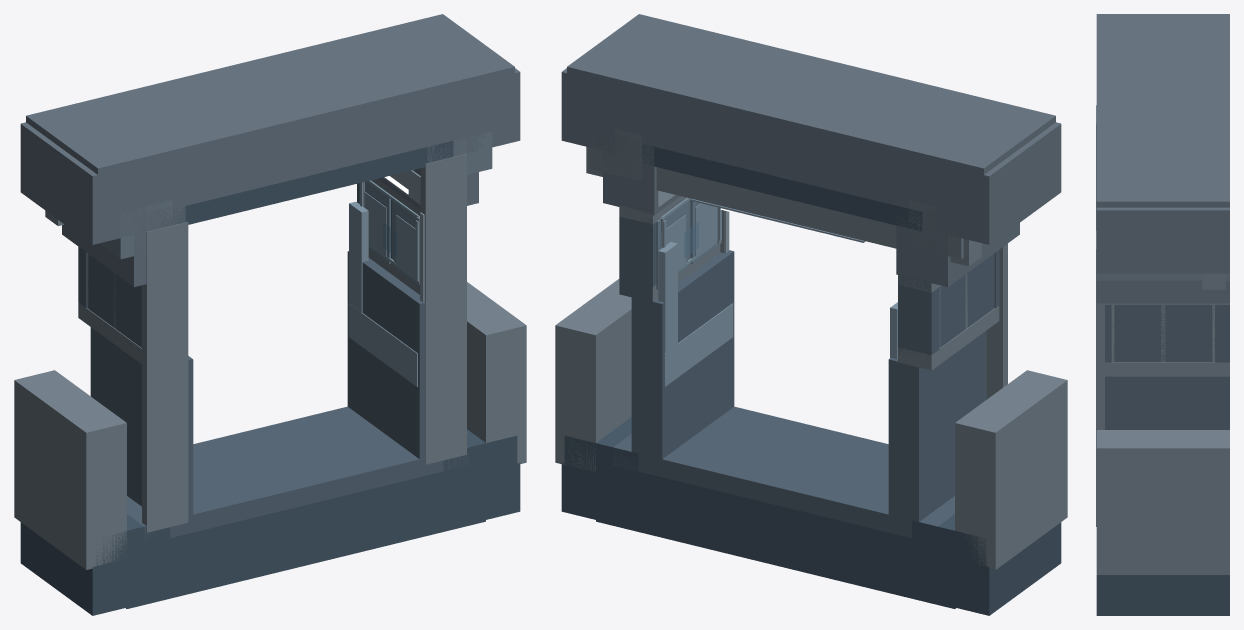
The model's file is continuum-observation-bays-v3.gltf.
3 views of the same model, side by side, from view 1: azimuth 30°, elevation 25°; view 2: azimuth 150°, elevation 25°; view 3: azimuth 270°, elevation 25° (orthographic). The views are drawn at different scales.
Visible parts, largest first — view 1: PANORAMA_SHELL, PANORAMA_INLAY, SERVICE_SHELL, SERVICE_INLAY, GATE_INLAY; view 2: PANORAMA_SHELL, SERVICE_SHELL, GATE_SHELL, PANORAMA_INLAY, GATE_INLAY, SERVICE_INLAY; view 3: PANORAMA_SHELL, SERVICE_SHELL, GATE_SHELL.
Part boxes in pixels (x1,y1,x2,y2): PANORAMA_SHELL: (14,14,526,615); PANORAMA_INLAY: (348,170,424,386); SERVICE_SHELL: (87,199,391,347); SERVICE_INLAY: (359,181,419,286); GATE_INLAY: (349,201,368,312); PANORAMA_SHELL: (555,14,1067,615); SERVICE_SHELL: (620,200,994,364); GATE_SHELL: (586,146,981,266); PANORAMA_INLAY: (657,190,733,386); GATE_INLAY: (658,198,897,358); SERVICE_INLAY: (656,201,721,289); PANORAMA_SHELL: (1096,14,1229,615); SERVICE_SHELL: (1112,305,1214,361); GATE_SHELL: (1202,273,1225,289).
Bounding box in the file's own units: 56.4 × 54.8 × 16.08.
